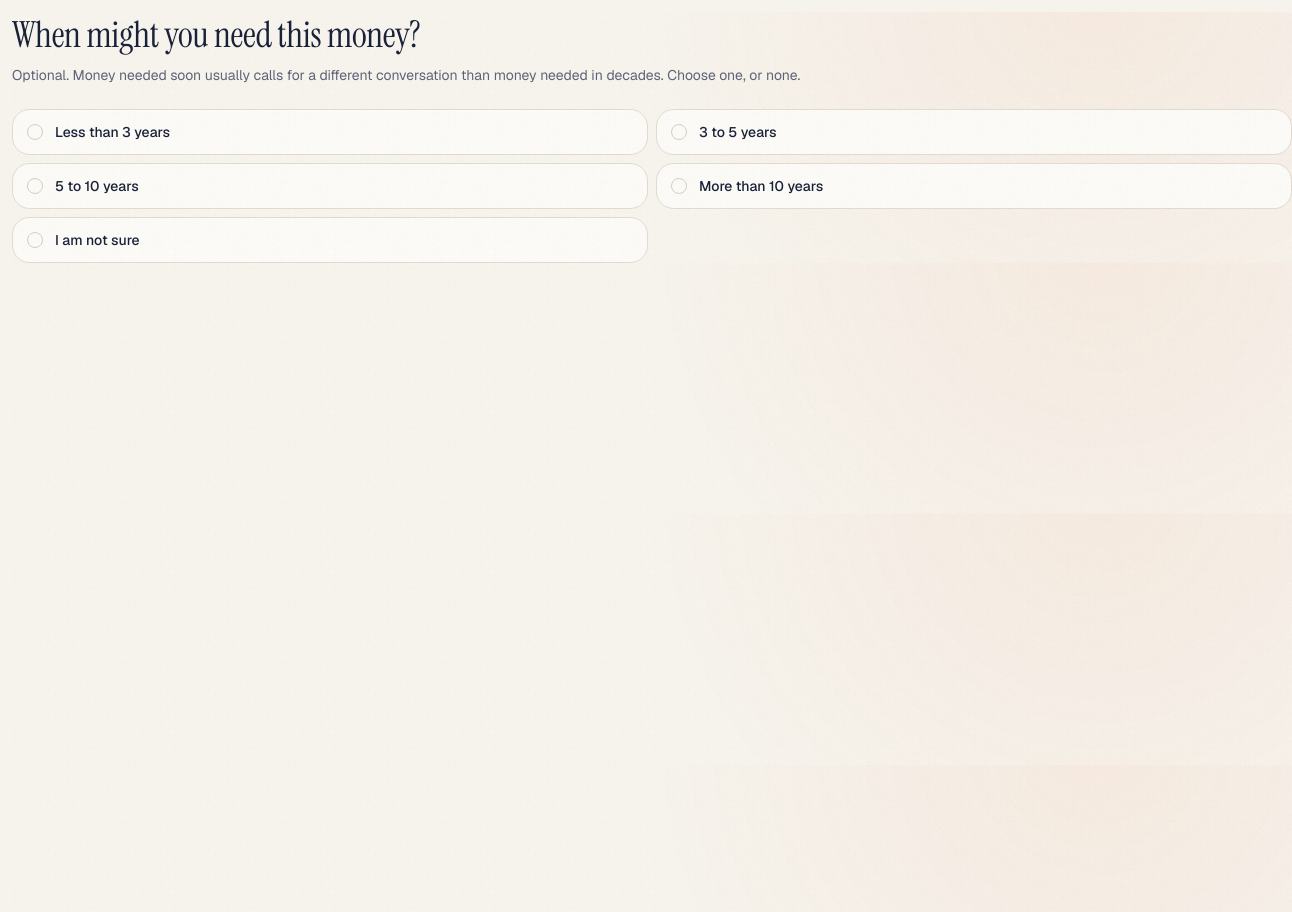
Test: PreferenceQuestion selections › horizon can be selected, replaced, toggled off, and explicitly cleared
This screenshot has width=1292, height=912.
Expected: the button "Clear this answer" is not shown
Click the radio button labelled "Less than 3 years": (113, 132) [12,109,648,155]
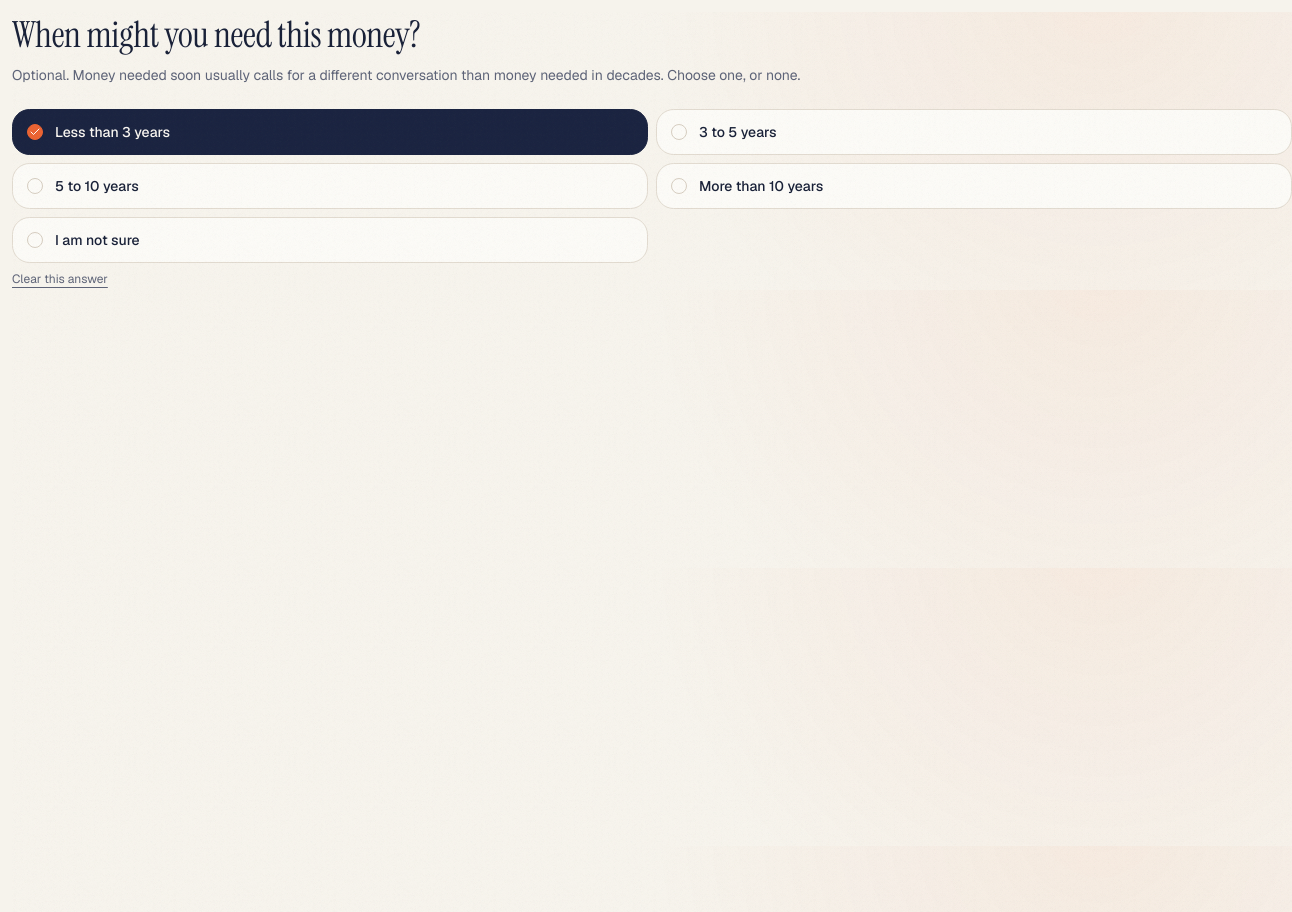
Click the radio button labelled "3 to 5 years": (738, 132) [656,109,1291,155]
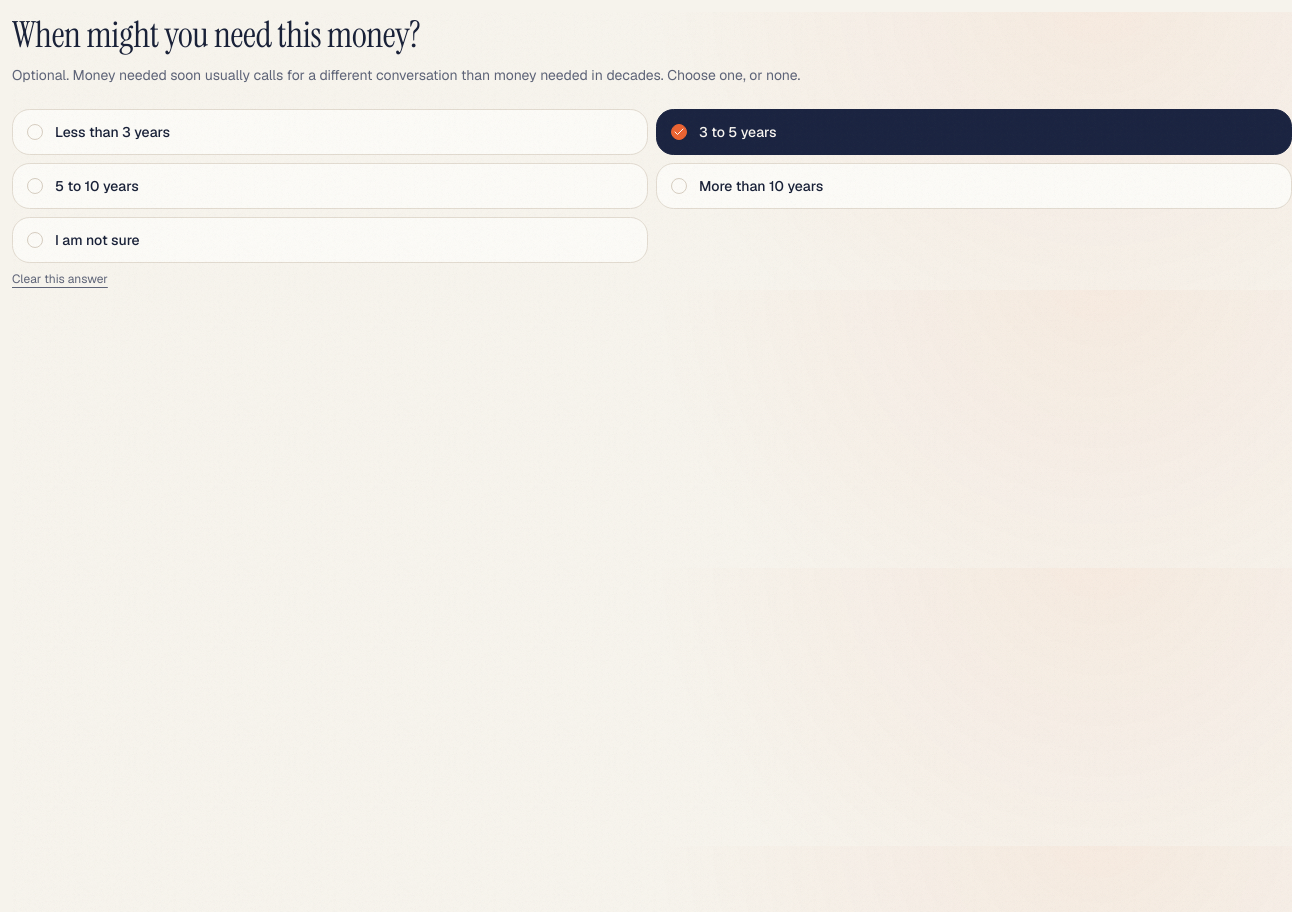
Click the radio button labelled "3 to 5 years": (738, 132) [656,109,1291,155]
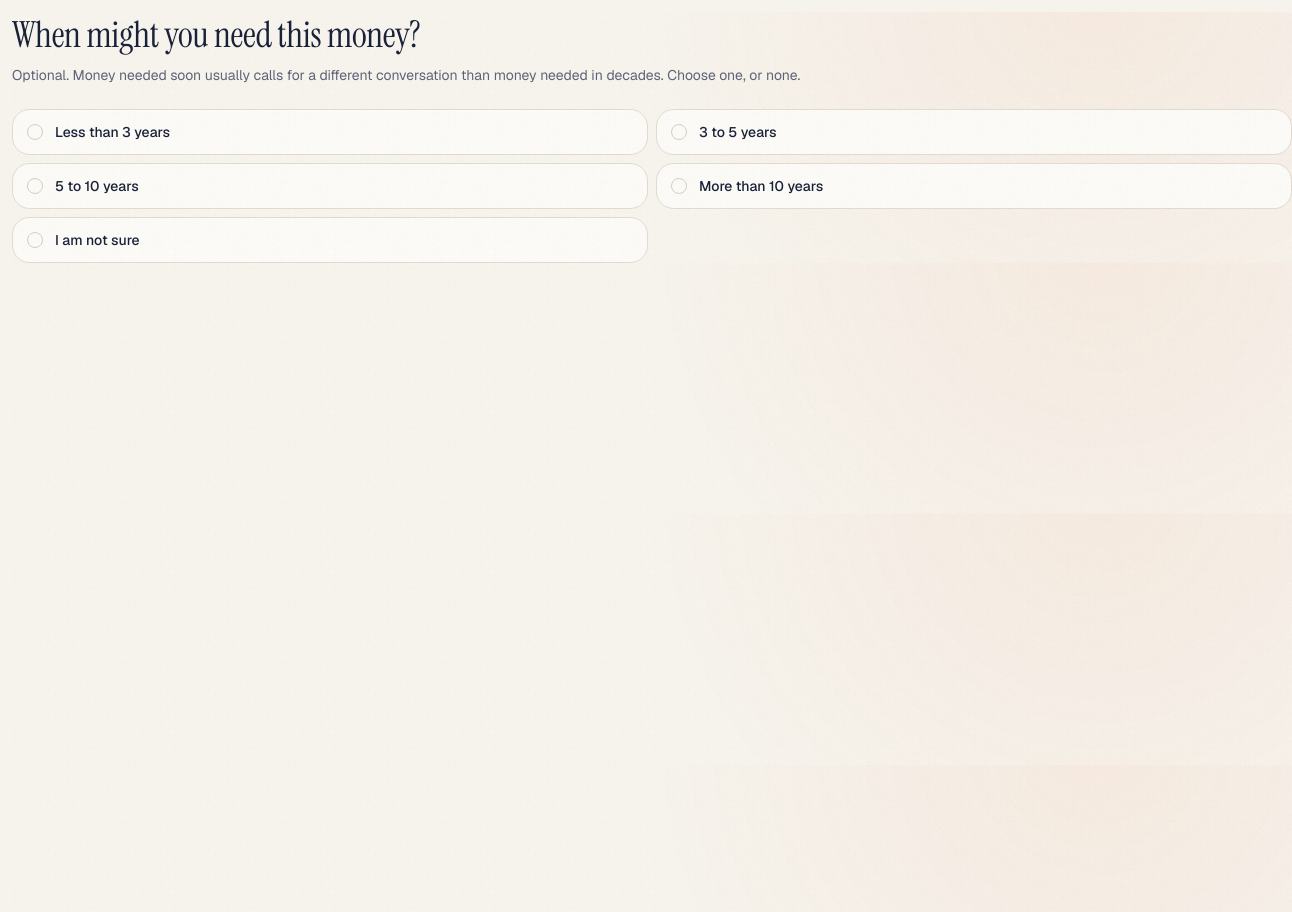
Click the radio button labelled "Less than 3 years": (113, 132) [12,109,648,155]
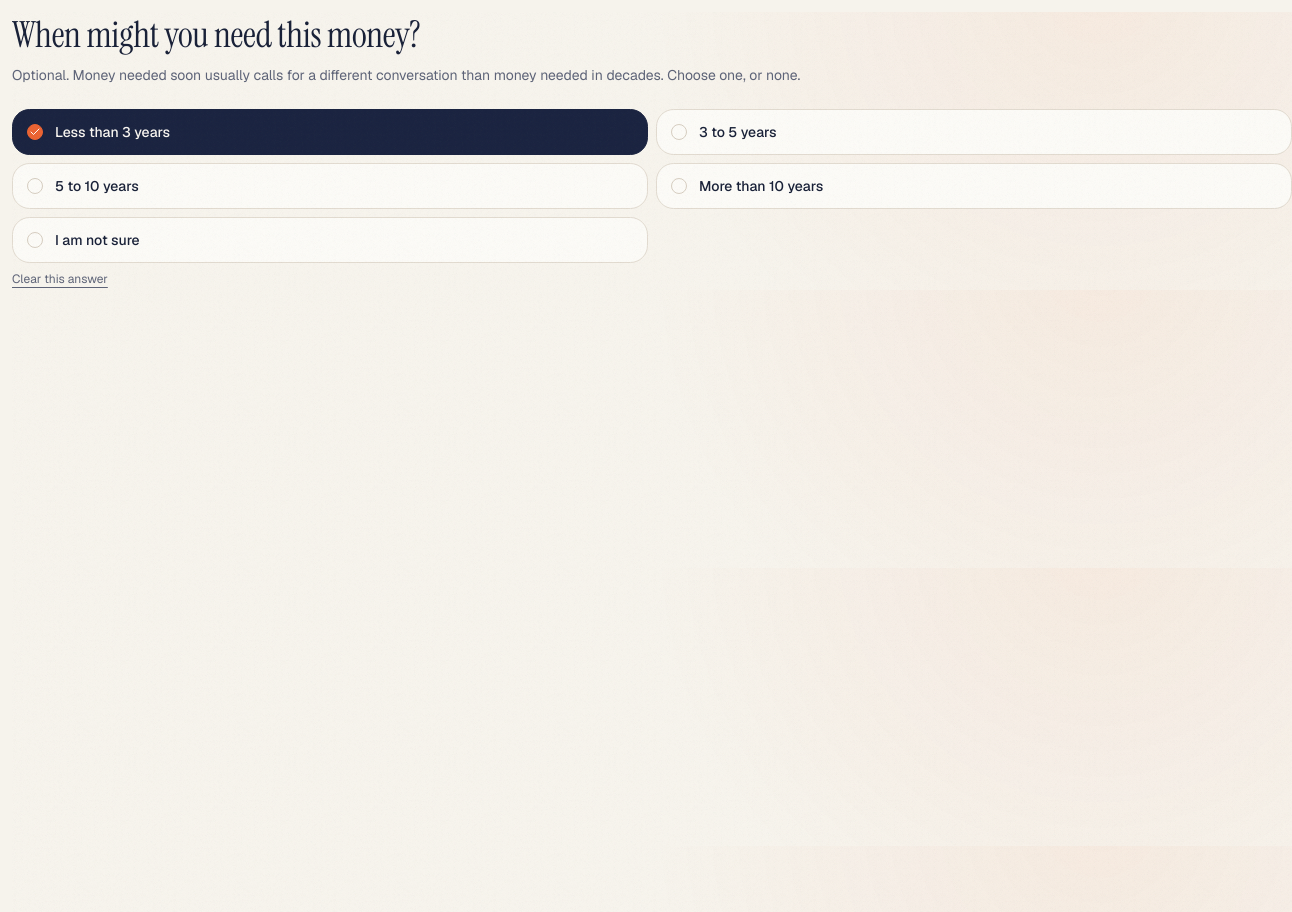
Click the button "Clear this answer": (60, 279) [12,271,108,287]
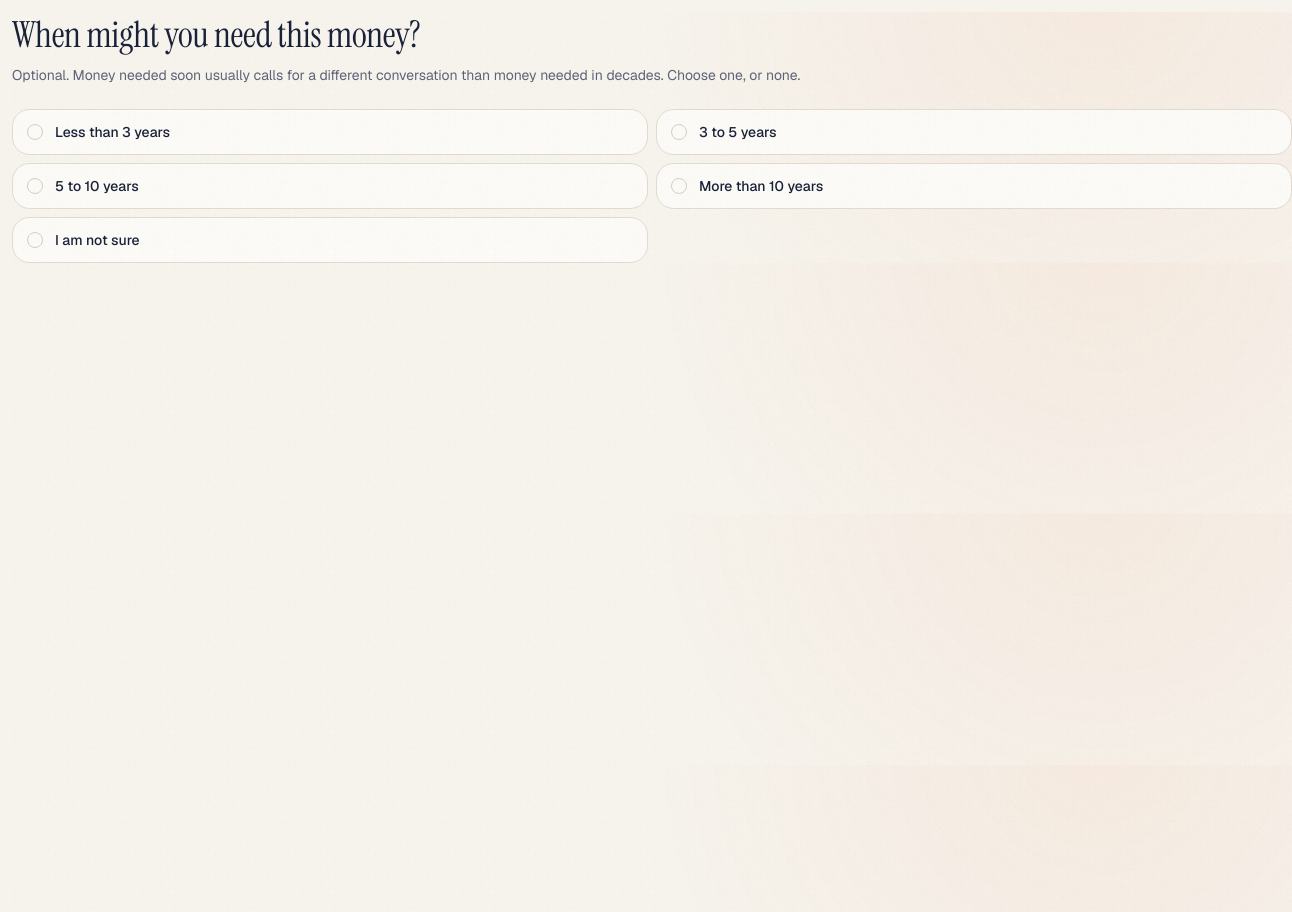
Result: the button "Clear this answer" is gone
